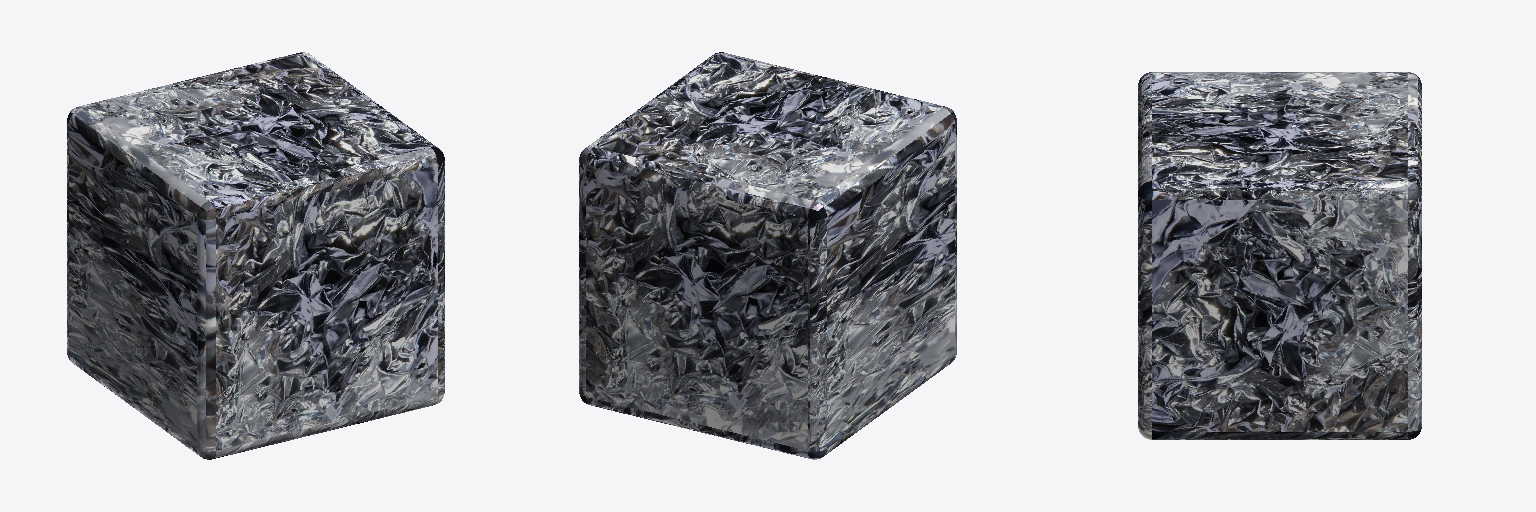
The picture shows the model from 3 angles: view 1: azimuth 30°, elevation 25°; view 2: azimuth 150°, elevation 25°; view 3: azimuth 270°, elevation 25°; orthographic projection.
Visible parts, largest first — view 1: Cube; view 2: Cube; view 3: Cube.
Part boxes in pixels (left/top/right/bottom): Cube: left=67, top=52, right=444, bottom=459; Cube: left=579, top=52, right=956, bottom=459; Cube: left=1138, top=72, right=1421, bottom=439.
Size of the model in its own units: 2 by 2 by 2.
Materials: 1 (1 with a texture image).